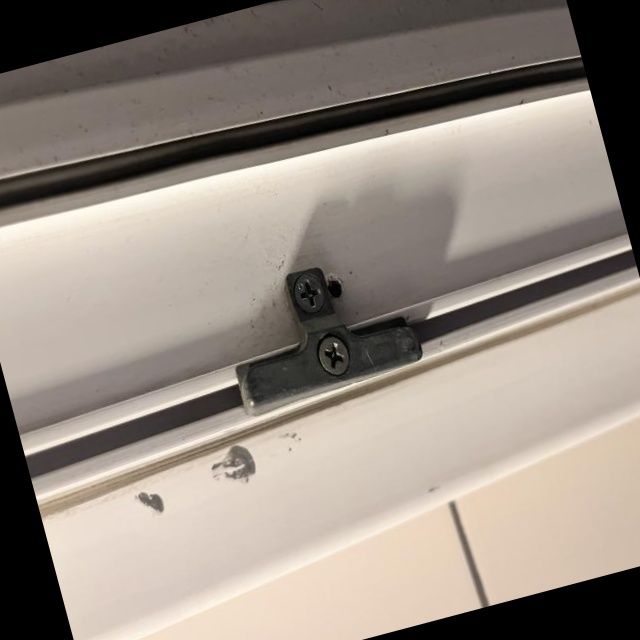phillips: (289, 269, 329, 317), (314, 332, 354, 379)
